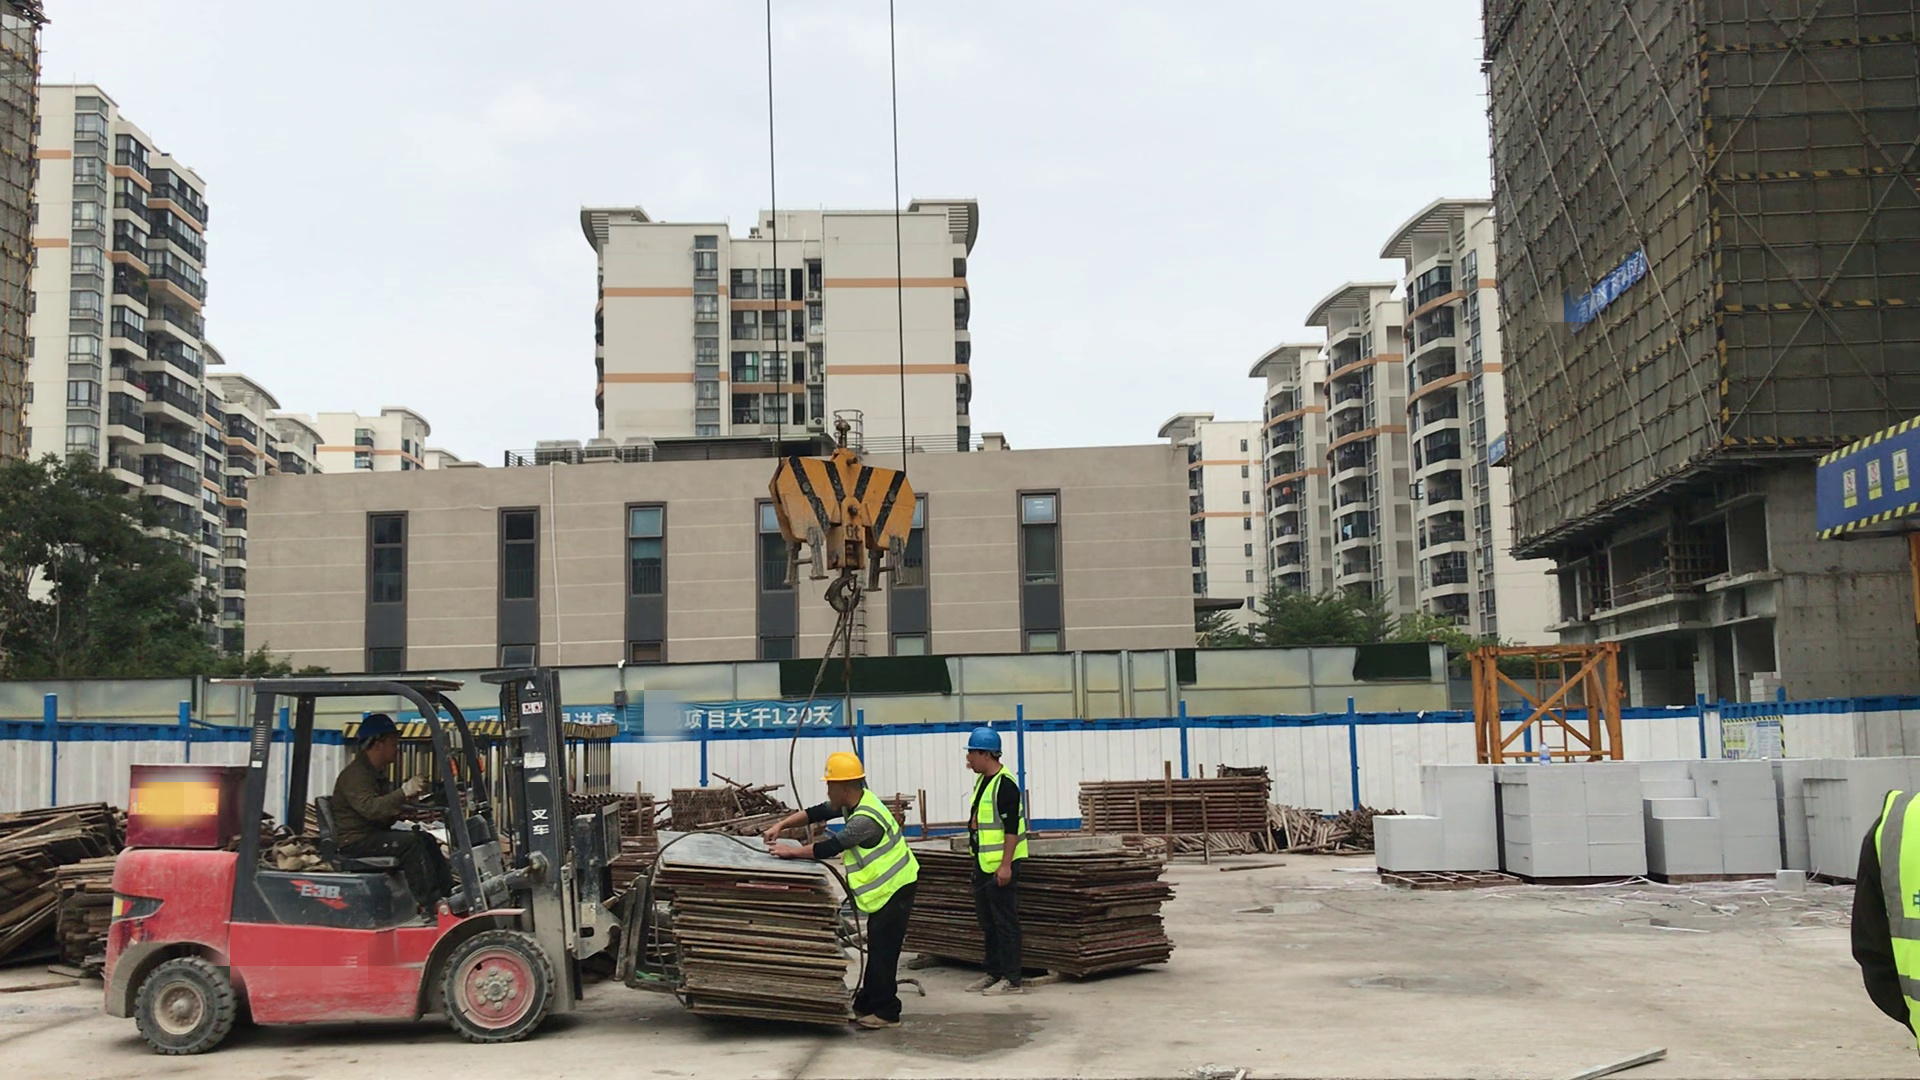board: (652, 824, 857, 1050), (929, 836, 1191, 994), (3, 802, 111, 976)
brick: (1500, 757, 1653, 884), (1645, 754, 1781, 877), (1370, 757, 1502, 883), (1778, 746, 1889, 875)
helmet: (349, 715, 401, 744), (828, 753, 870, 784), (967, 721, 1007, 753)
hook: (764, 423, 936, 602)
person: (770, 754, 926, 1042), (322, 709, 464, 921), (955, 722, 1042, 1008), (1855, 758, 1920, 1042)
scaffold: (1069, 768, 1294, 848)
slogan: (552, 700, 844, 739), (1801, 428, 1920, 519), (1560, 253, 1656, 329), (1481, 435, 1518, 471)
vest: (835, 799, 924, 913), (969, 772, 1029, 875)
